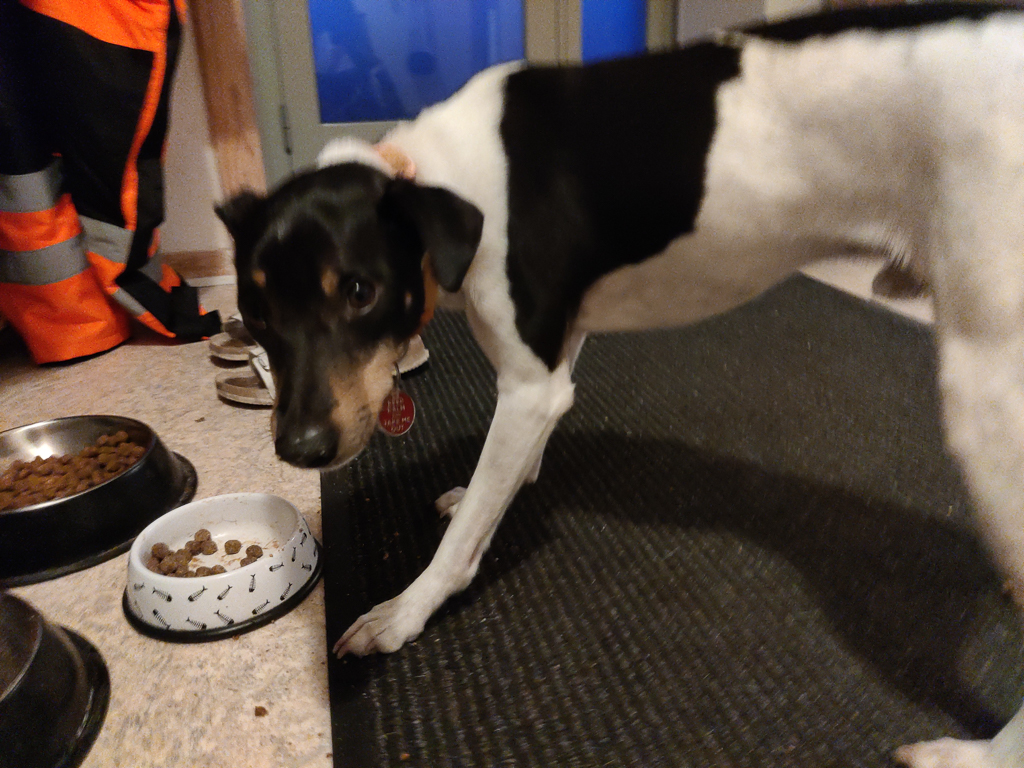Dog: (192, 0, 1024, 768)
